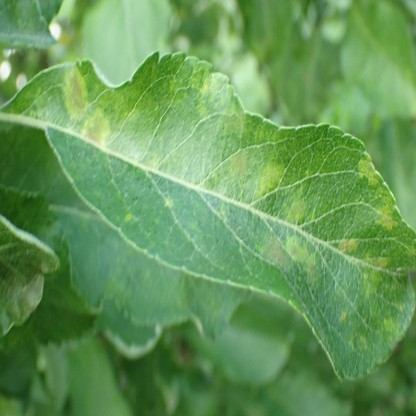scab: (63, 67, 86, 117), (21, 260, 43, 312), (82, 109, 111, 148), (261, 233, 291, 269), (361, 257, 388, 293), (287, 237, 315, 271), (256, 161, 283, 191), (375, 189, 392, 232), (223, 102, 244, 135), (357, 160, 376, 186), (230, 153, 246, 180), (350, 335, 366, 350), (383, 317, 398, 331), (340, 240, 355, 252)
